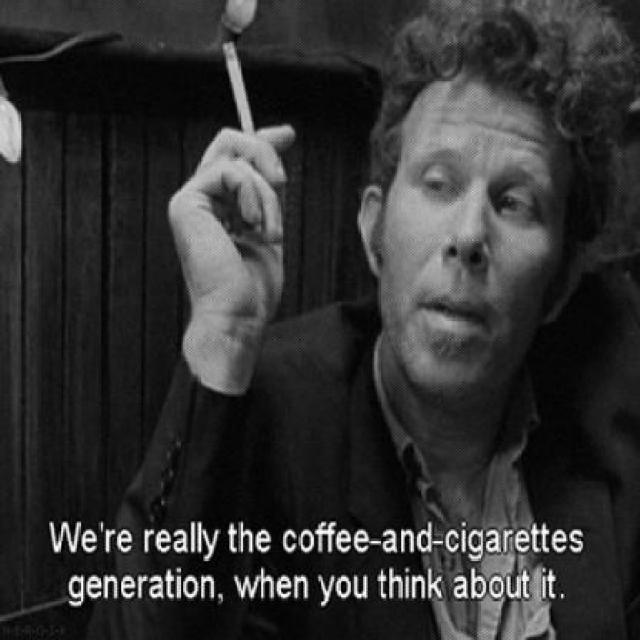smoke: (220, 38, 260, 138)
